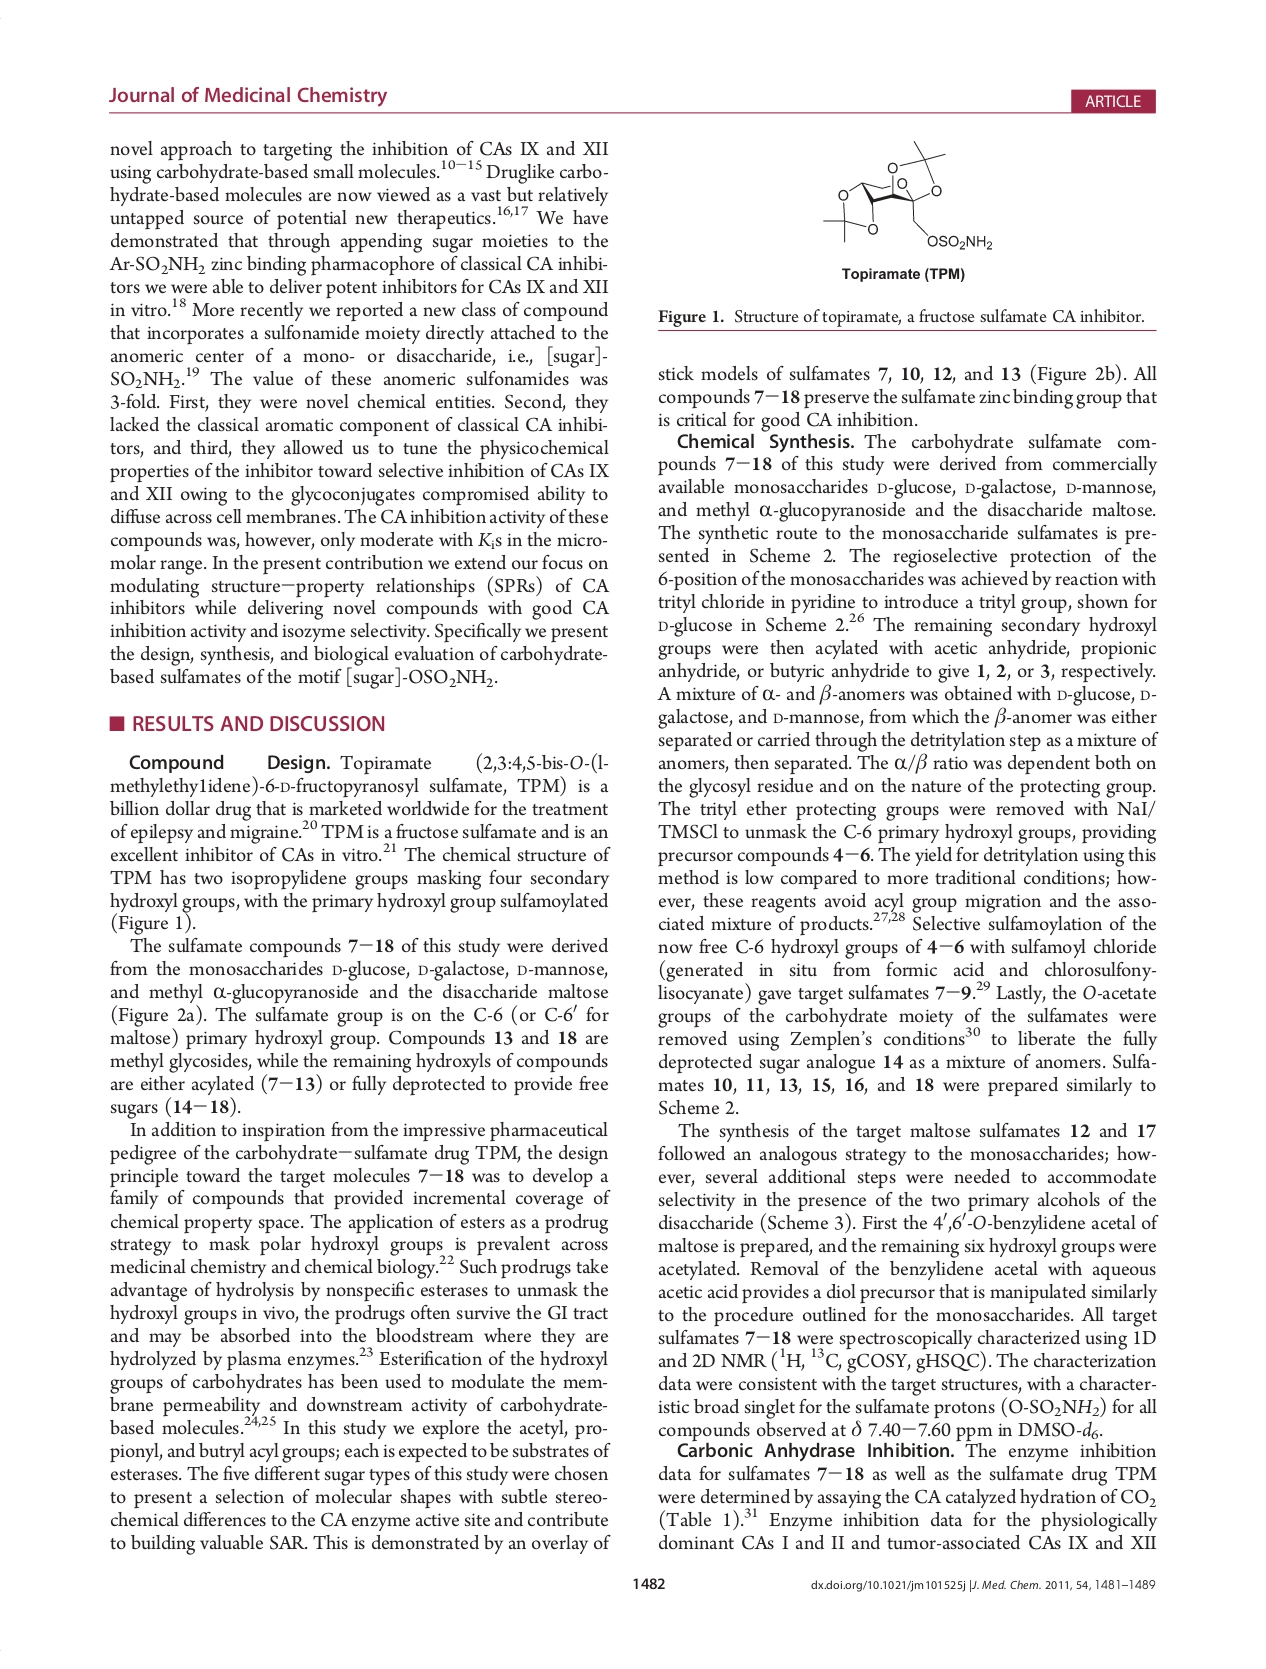exist_molecular: (819, 136, 997, 254)
